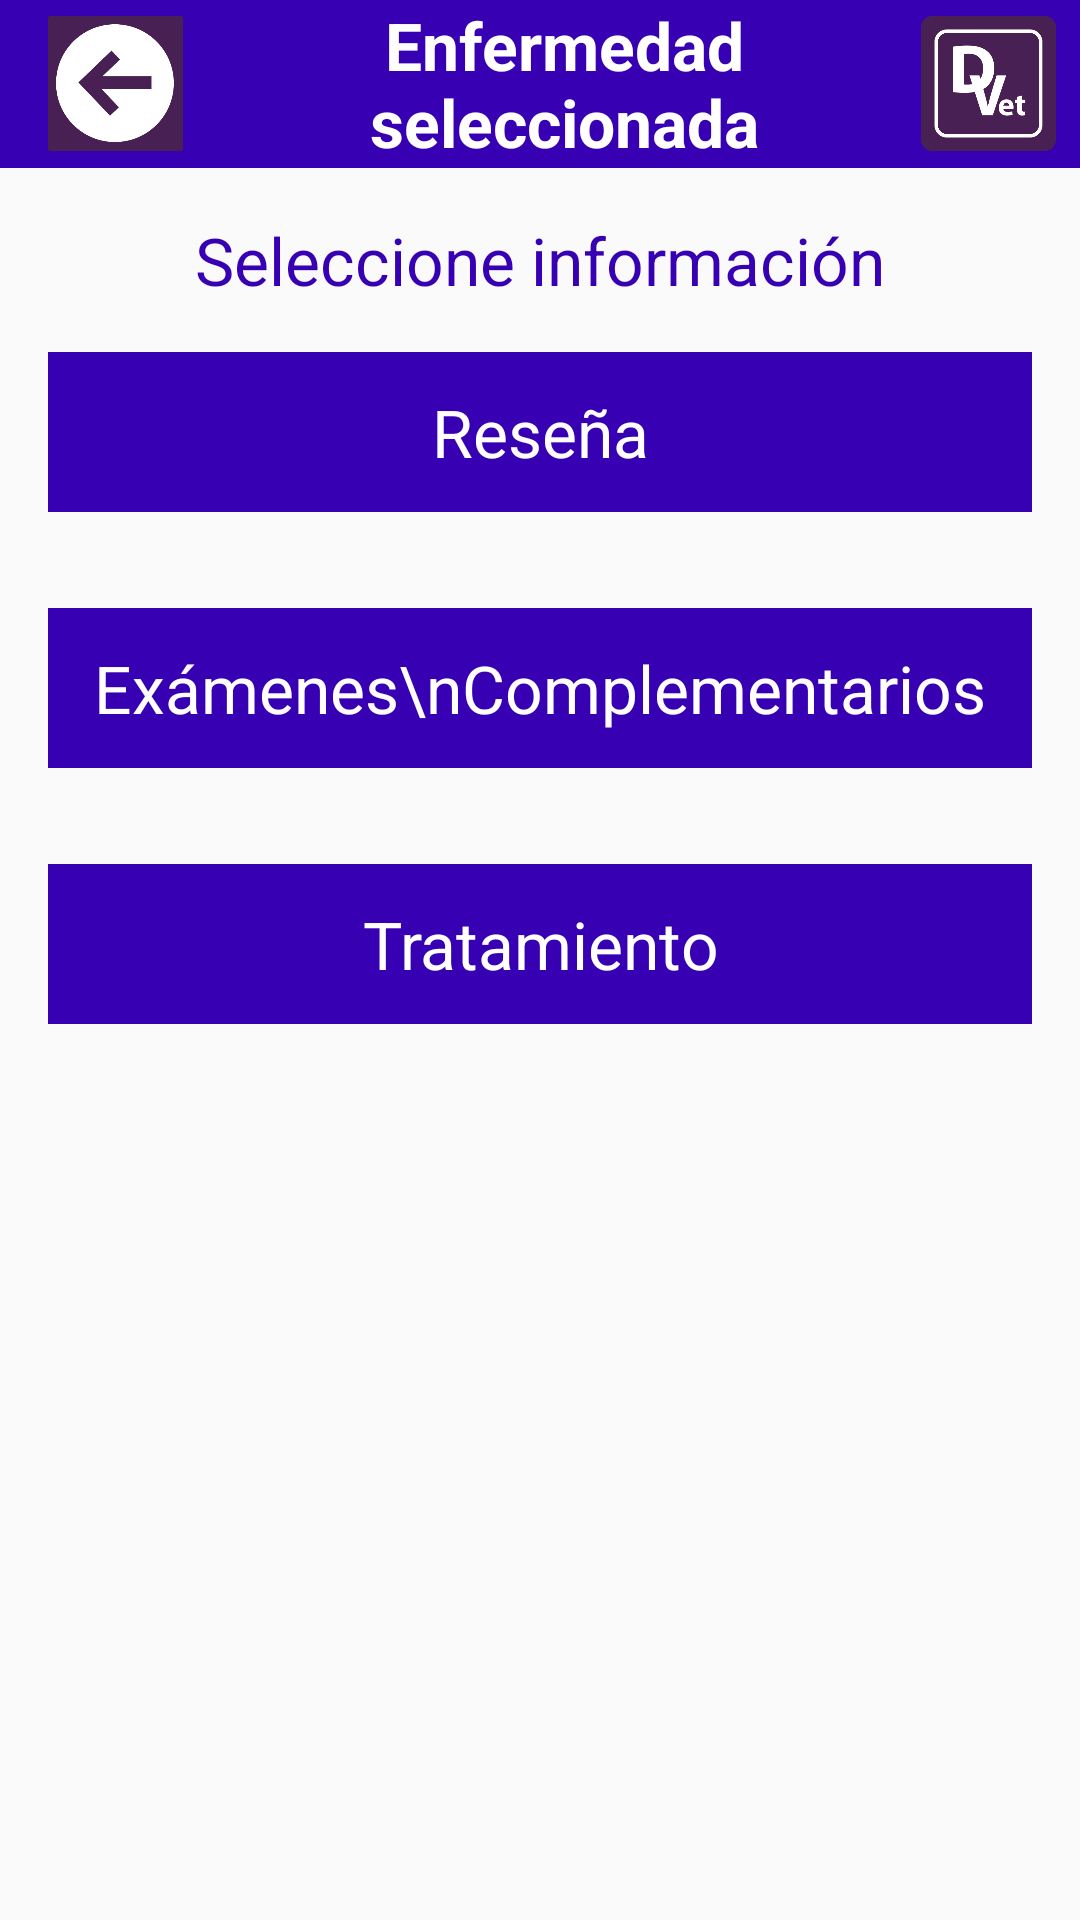

Locate icon controls on the screen. Image size 1080 x 1920, boxes as (x1, y1, x2, y2).
back: (48, 16, 183, 151)
